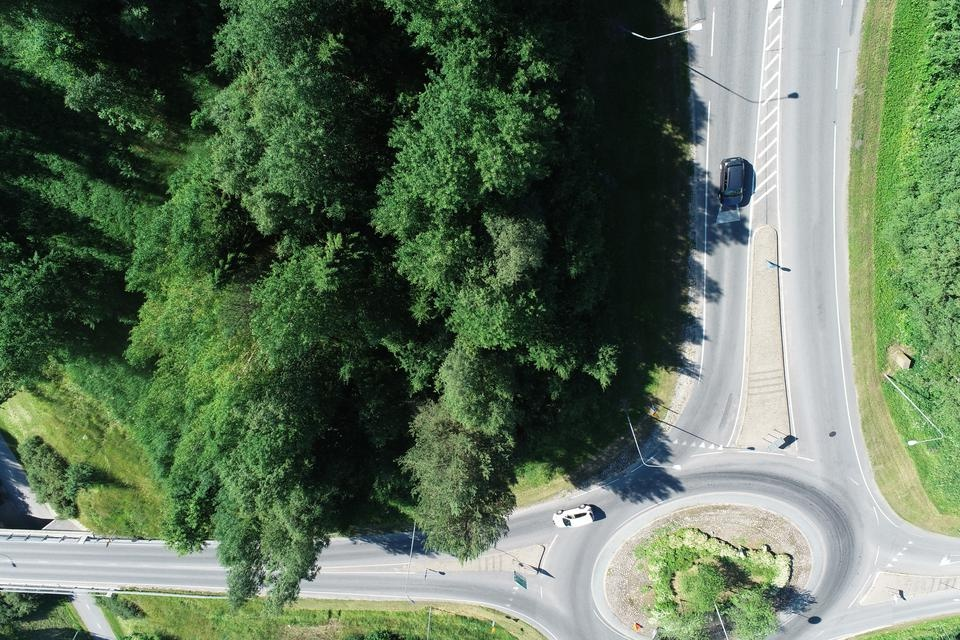roundabout: (483, 396, 939, 640)
